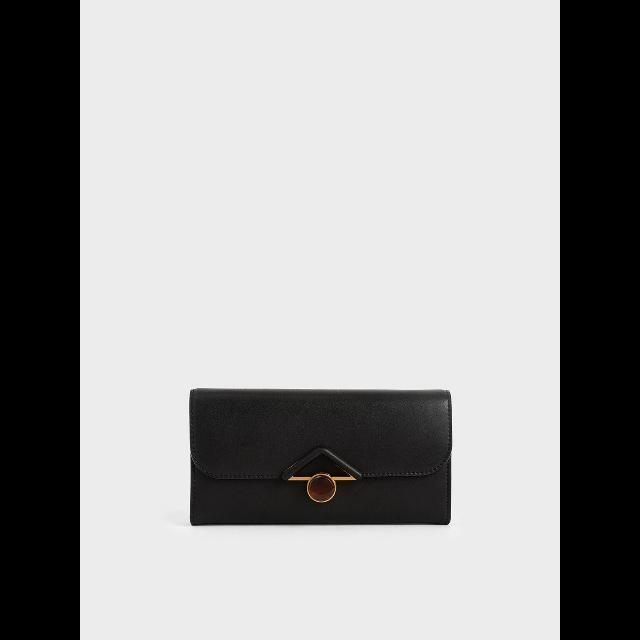wallet: (188, 386, 450, 522)
